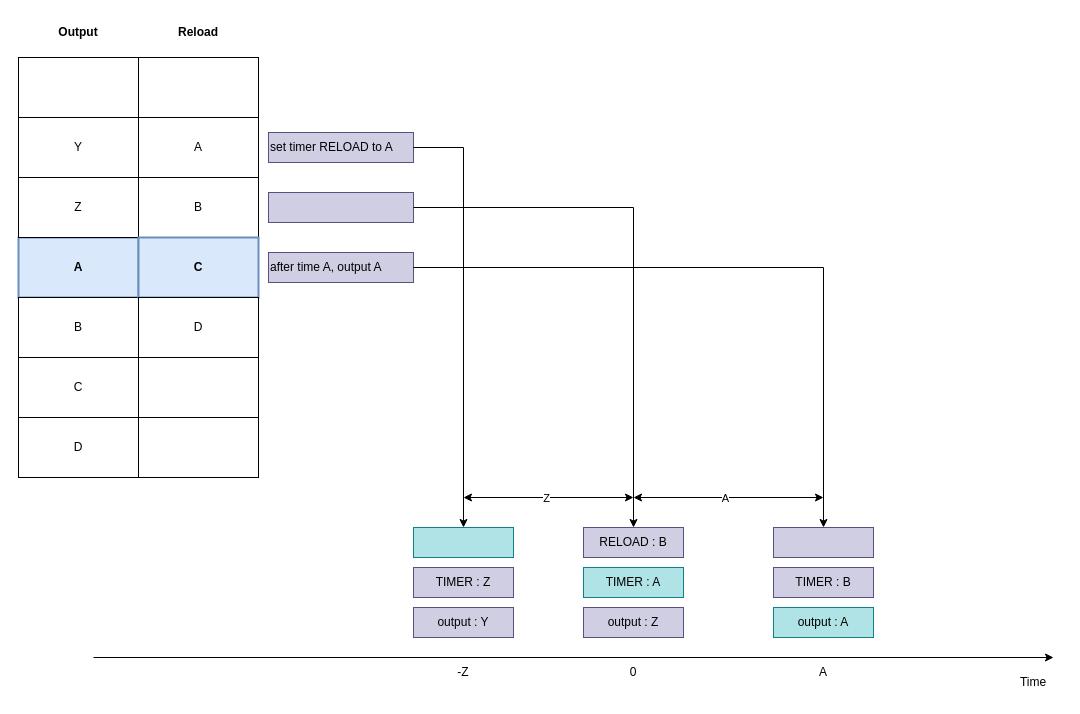
Some shapes in this 1080 by 714 pixel diagram are drawn without their labels. Each missing label, with the box of its shape:
RELOAD : A: (412, 526, 514, 558)
RELOAD : C: (772, 526, 874, 558)
TIMER reloads with A: (268, 192, 414, 222)
